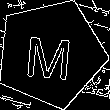M_N: (25, 26, 77, 81)
